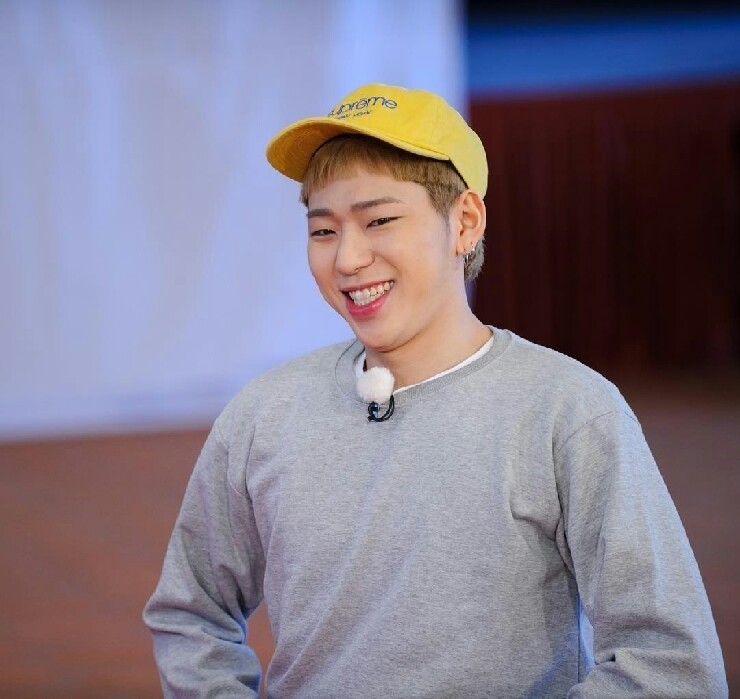face_no_mask: (292, 117, 496, 349)
